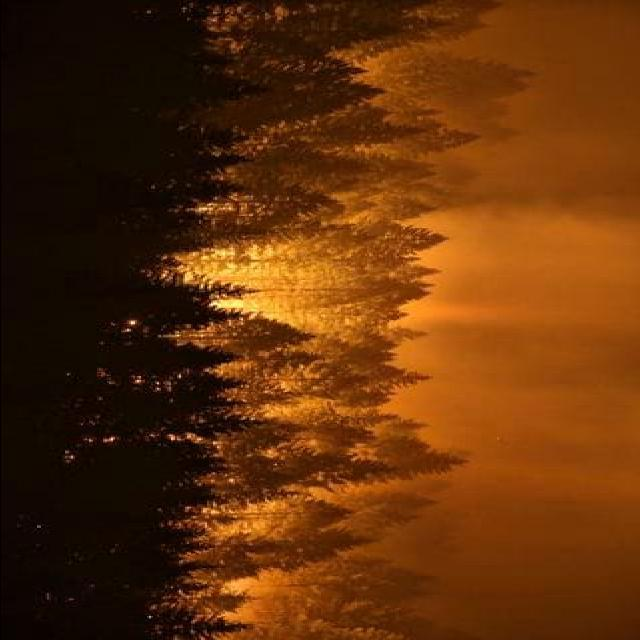Fire: (178, 230, 368, 634)
